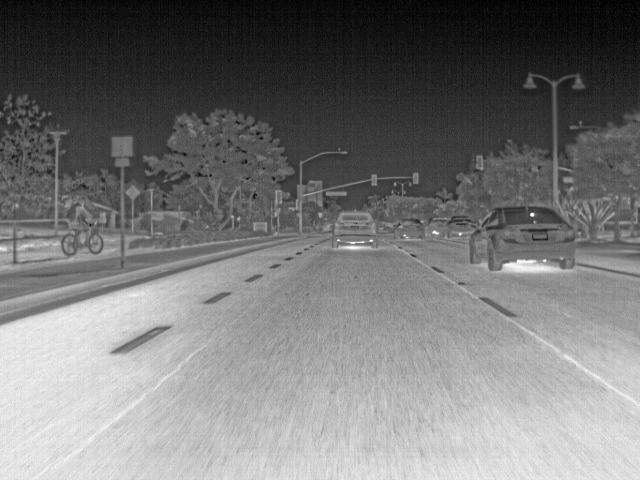car: (470, 206, 575, 271), (333, 210, 378, 249), (395, 218, 426, 239), (449, 215, 477, 236), (427, 215, 451, 236), (376, 220, 386, 231), (387, 222, 395, 232)
person: (65, 198, 91, 232)
